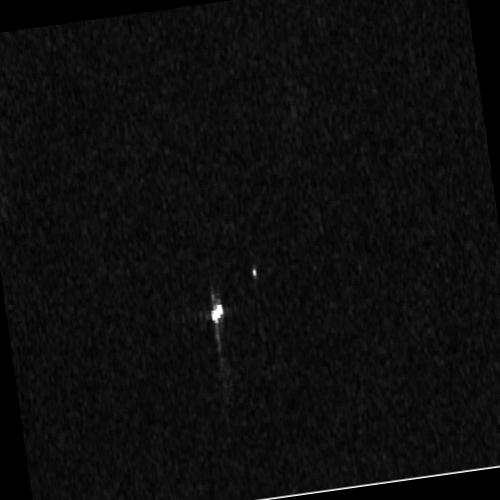ship: (211, 302, 225, 323)
